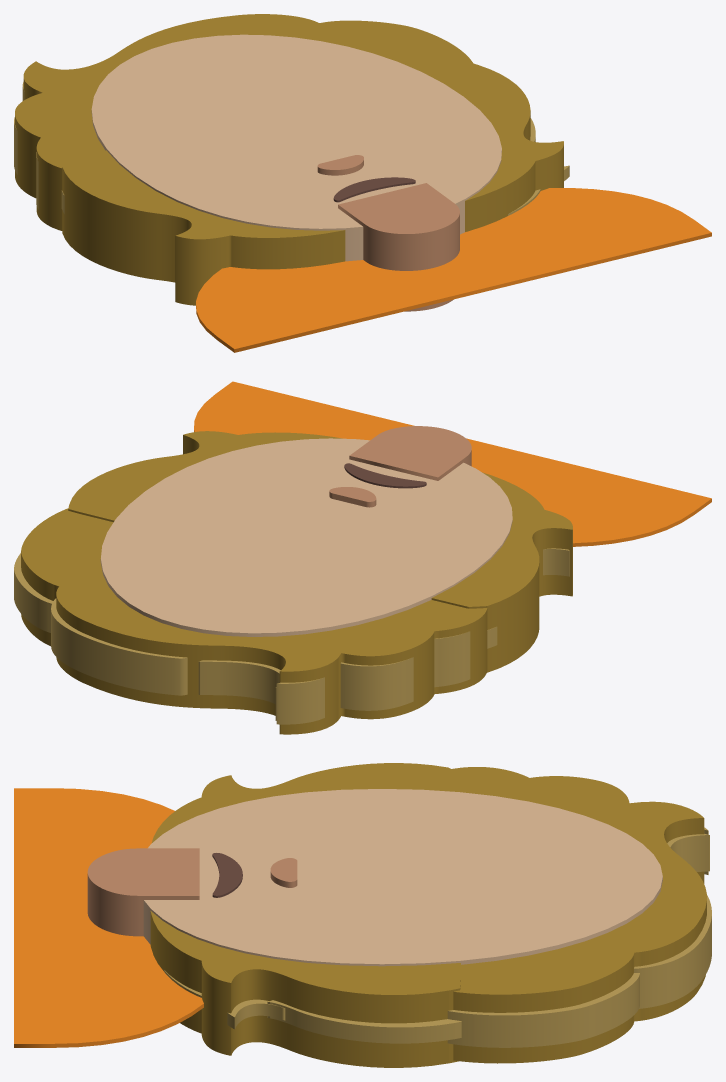
Rendered from emoji_u1f64d_1f3fc.glb.
The picture shows the model from 3 angles, top to bottom: view 1: azimuth 30°, elevation 25°; view 2: azimuth 150°, elevation 25°; view 3: azimuth 270°, elevation 25°; orthographic projection. The views are drawn at different scales.
Visible parts, largest first — view 1: emoji_u1f64d_1f3fc; view 2: emoji_u1f64d_1f3fc; view 3: emoji_u1f64d_1f3fc.
Boxes of the visible parts, x1,y1,x2,y2 form: emoji_u1f64d_1f3fc: (14, 14, 711, 352); emoji_u1f64d_1f3fc: (14, 381, 711, 734); emoji_u1f64d_1f3fc: (14, 763, 711, 1067).
Bounding box in the file's own units: 0.0271 × 0.0044 × 0.0313.
